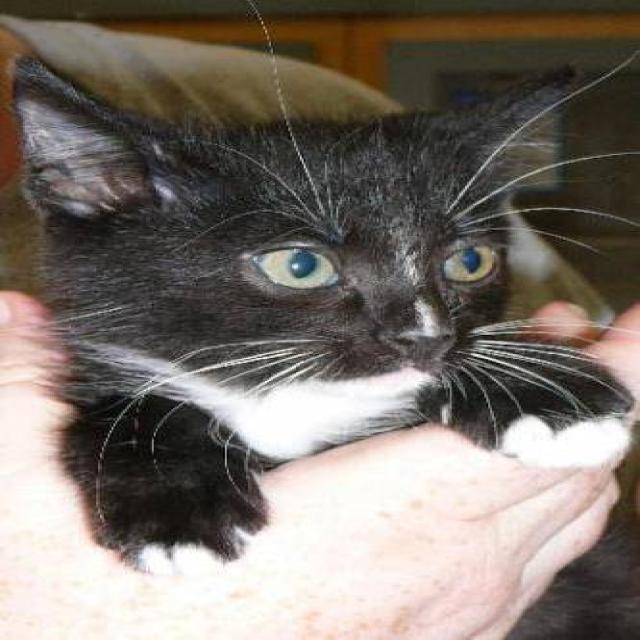cat: (6, 45, 638, 639)
